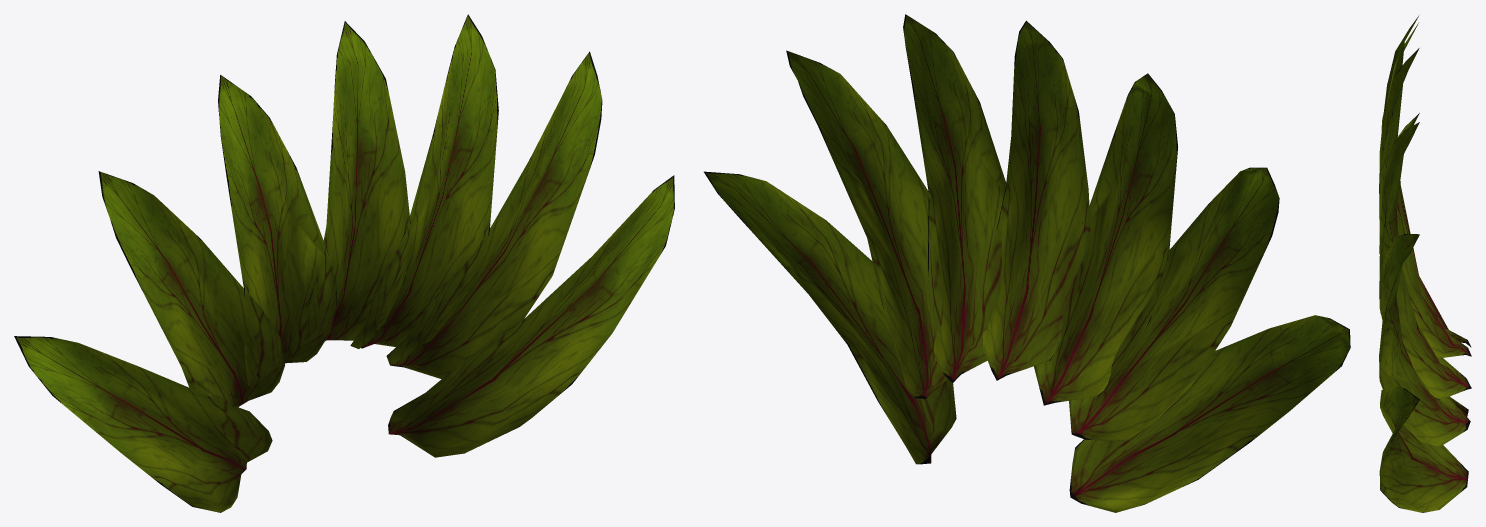
The model's file is mdl_brush_leafcrown.gltf.
The picture shows the model from 3 angles, left to right: view 1: azimuth 30°, elevation 25°; view 2: azimuth 150°, elevation 25°; view 3: azimuth 270°, elevation 25°; orthographic projection. The views are drawn at different scales.
Parts seen in each view (by area): view 1: Plane.002; view 2: Plane.002; view 3: Plane.002.
Part boxes in pixels (x1=…): Plane.002: x1=14, y1=14, x2=674, y2=512; Plane.002: x1=704, y1=14, x2=1350, y2=512; Plane.002: x1=1379, y1=16, x2=1471, y2=512.
Bounding box in the file's own units: 8.87 × 6.03 × 1.21.
1 material, 1 textured.
